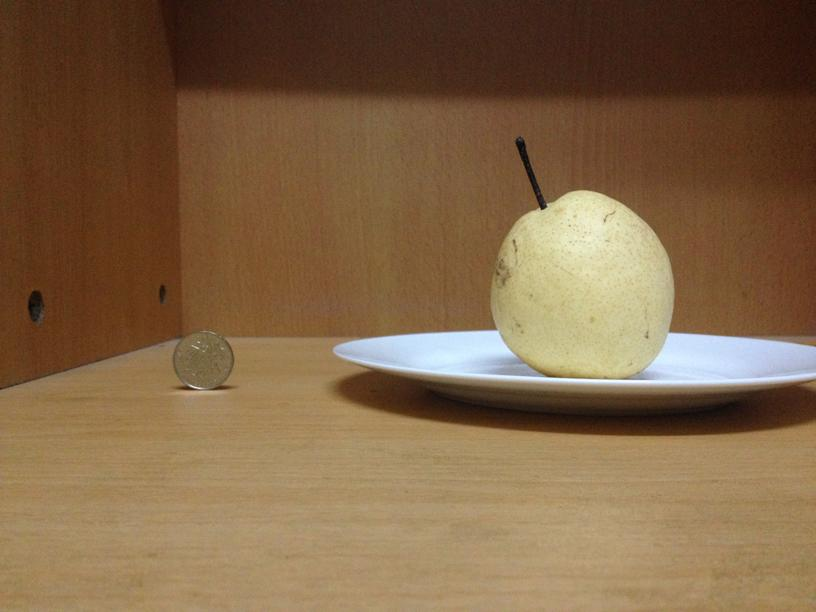coin: (172, 330, 237, 391)
pear: (489, 189, 675, 379)
